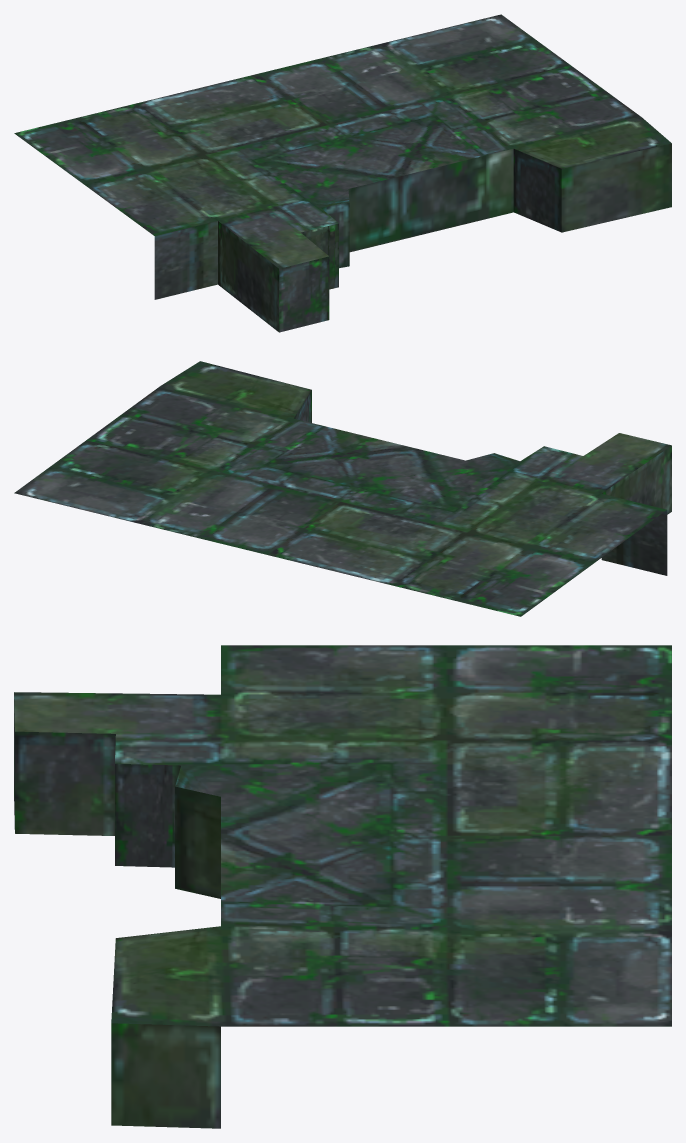
Rendered from stemple_floor_straight_03.fbx.
The picture shows the model from 3 angles, top to bottom: view 1: azimuth 30°, elevation 25°; view 2: azimuth 150°, elevation 25°; view 3: azimuth 270°, elevation 25°; orthographic projection. The views are drawn at different scales.
Visible parts, largest first — view 1: stemple_floor_straight_03-0; view 2: stemple_floor_straight_03-0; view 3: stemple_floor_straight_03-0.
Part boxes in pixels (box(x1,y1,x2,y2)): stemple_floor_straight_03-0: box(14, 14, 671, 332); stemple_floor_straight_03-0: box(14, 361, 671, 616); stemple_floor_straight_03-0: box(14, 645, 671, 1128).
Bounding box in the file's own units: 4 × 0.5 × 2.92.
